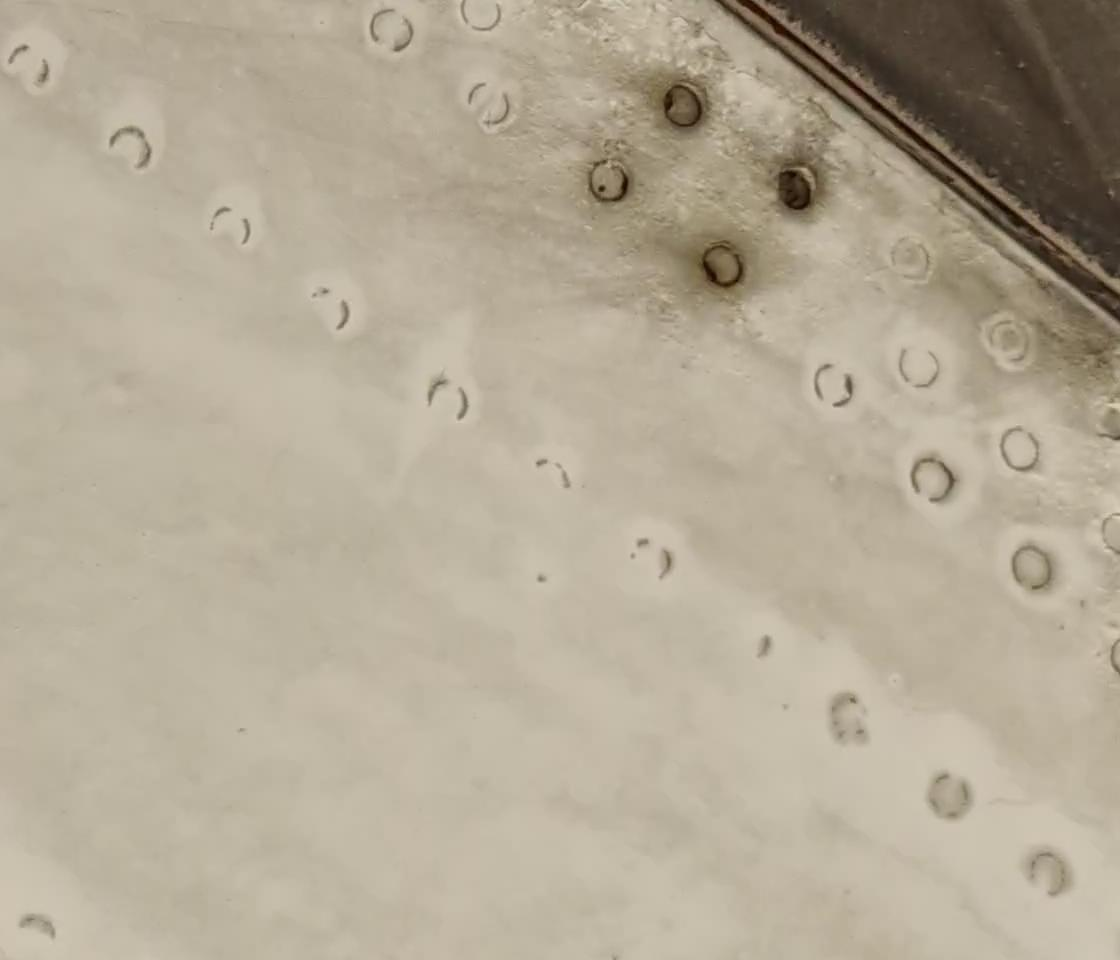rust: (771, 156, 825, 214), (696, 240, 749, 291)
